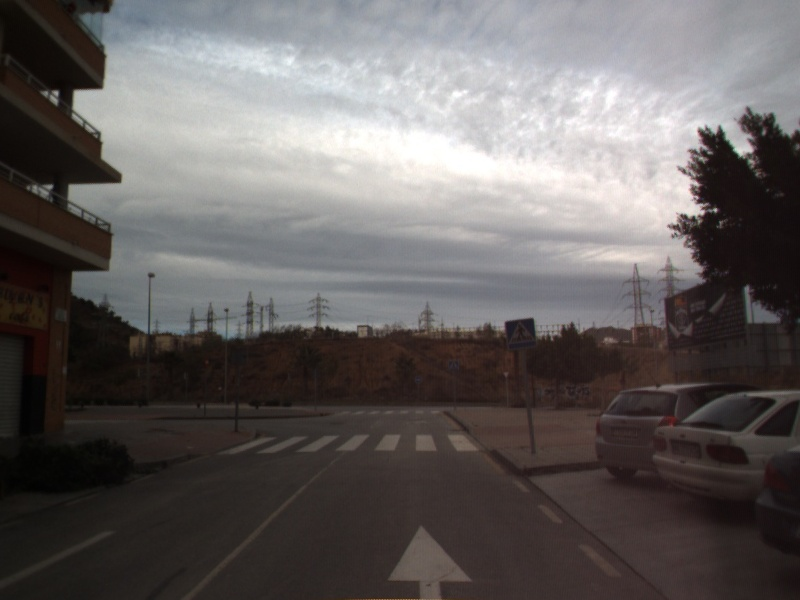STRAIGHT: (384, 521, 478, 600)
